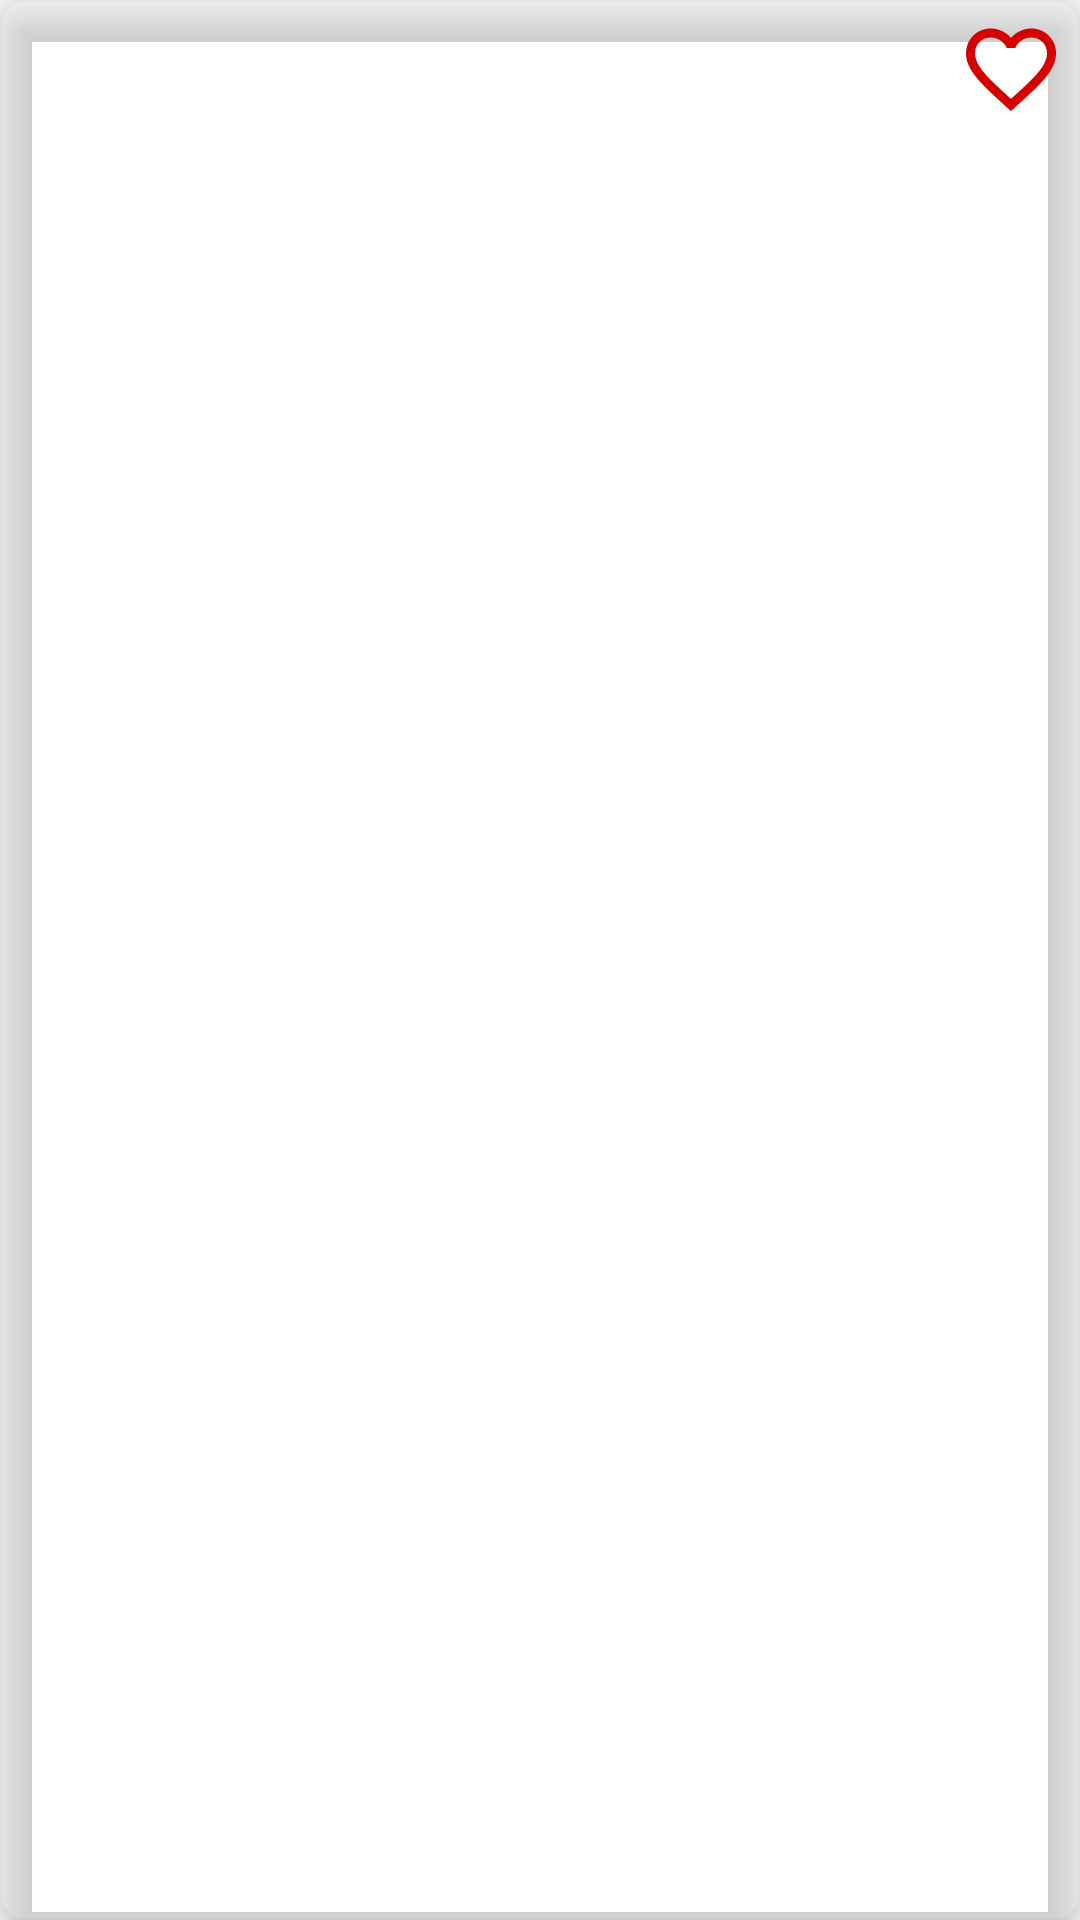

Point at icon controls on the screen. Image size 1080px x 1920px, points as [x,y].
favorite: [1011,69]
